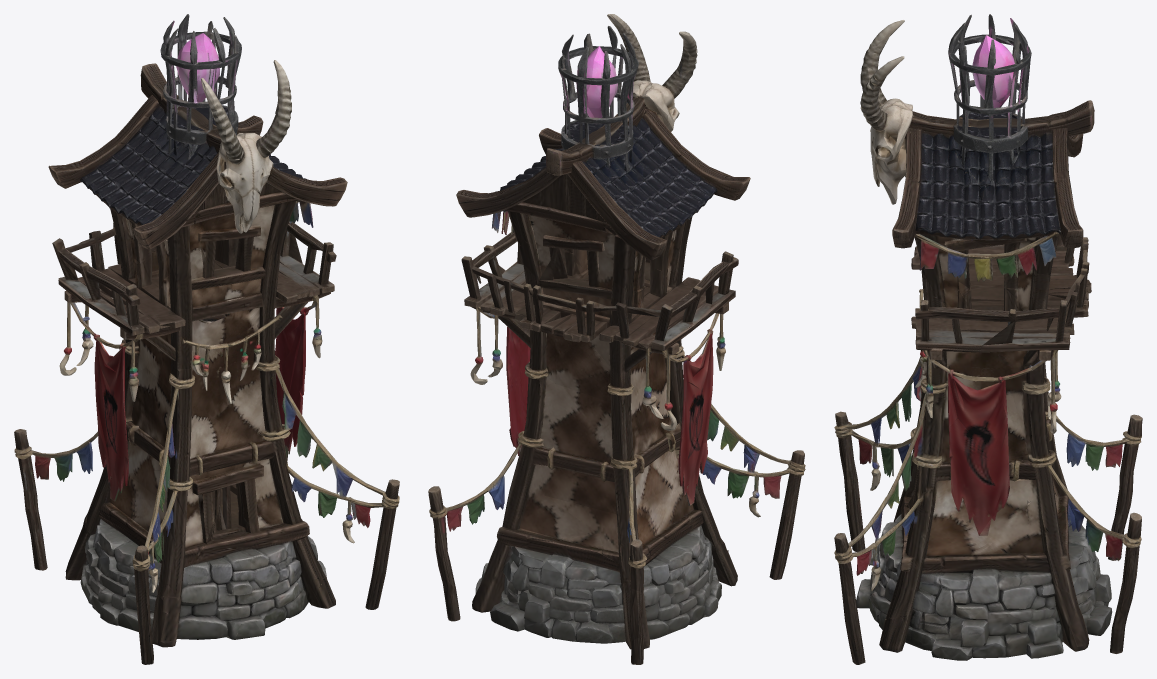
Rendered from shaman_tower.glb.
The picture shows the model from 3 angles, left to right: view 1: azimuth 30°, elevation 25°; view 2: azimuth 150°, elevation 25°; view 3: azimuth 270°, elevation 25°; orthographic projection. The views are drawn at different scales.
Parts seen in each view (by area): view 1: shaman_tower; view 2: shaman_tower; view 3: shaman_tower.
Part boxes in pixels (x1,y1,x2,y2): shaman_tower: (14,14,399,664); shaman_tower: (428,14,805,664); shaman_tower: (834,14,1142,664).
Bounding box in the file's own units: 8.77 × 18 × 8.59.
1 material, 1 textured.
